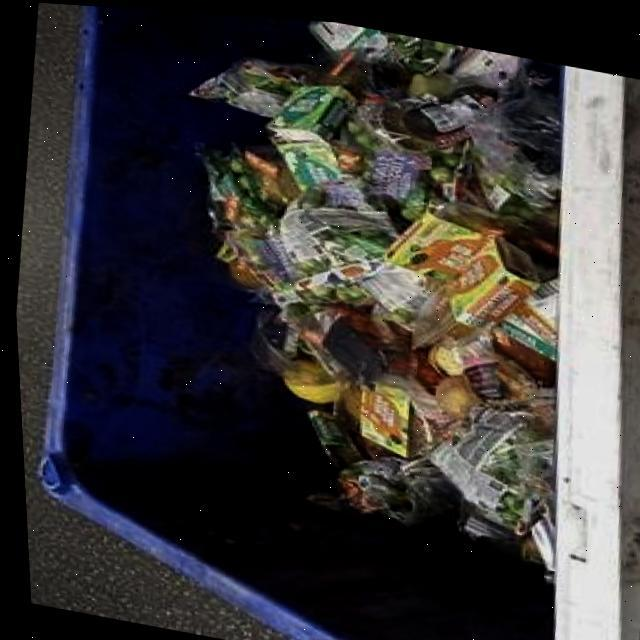Garbage: (188, 16, 559, 559)
Plastic_wraper: (445, 230, 535, 321), (381, 205, 500, 271), (186, 54, 319, 113), (267, 123, 344, 186), (267, 80, 354, 134), (353, 377, 405, 450)
